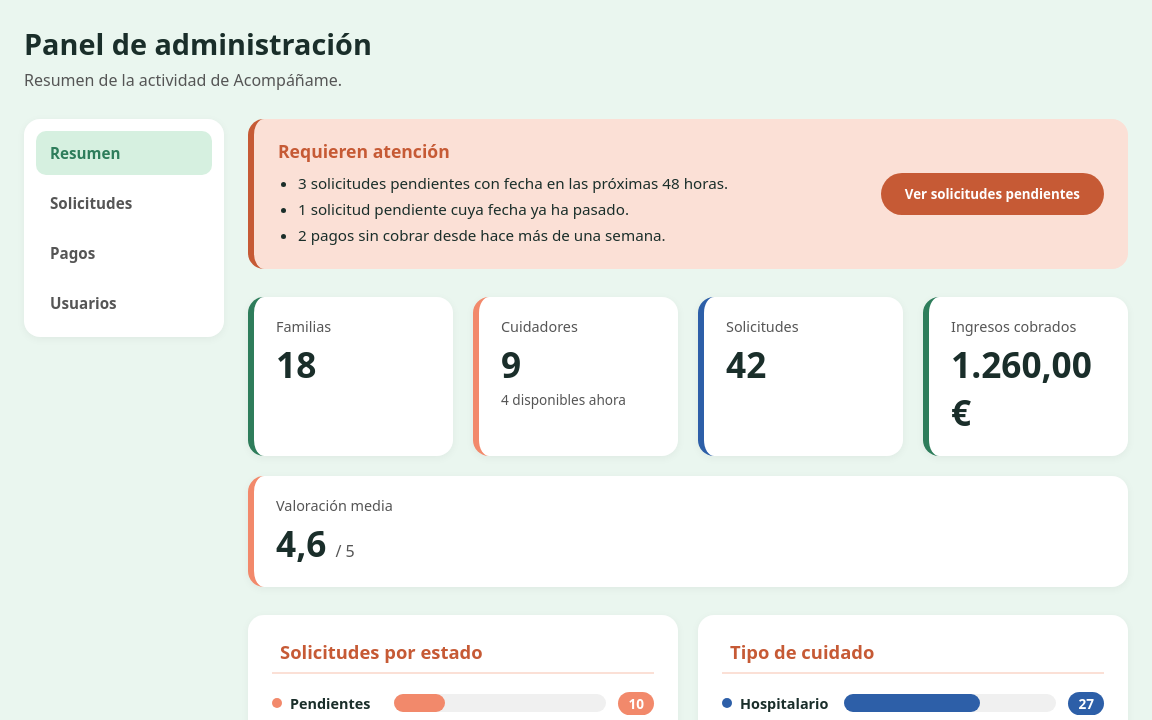
Test: AdminView › la sección Usuarios muestra la tabla de usuarios y oculta el resumen
Click the button with class "admin-menu__boton" showing "Usuarios": (124, 303) top-left (36, 281), bottom-right (212, 325)
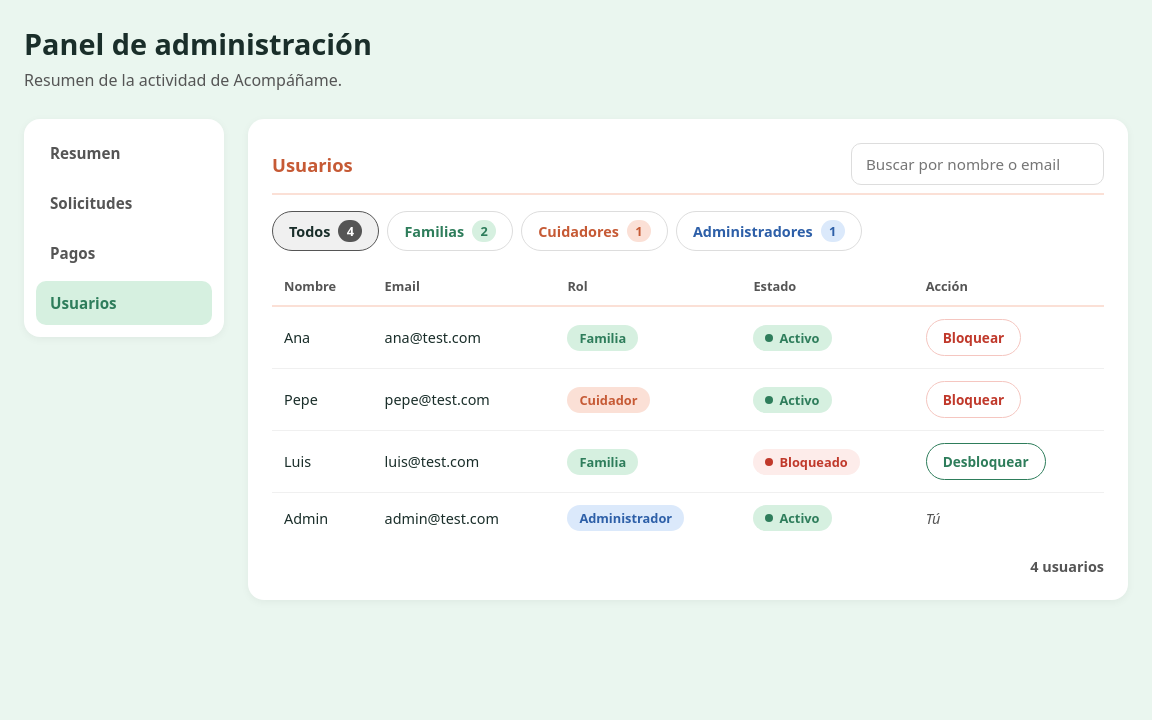
Result: the element with class "admin-usuarios" is shown at top-left (248, 119), bottom-right (1128, 600)
Result: the text "pepe@test.com" is shown at top-left (373, 368), bottom-right (555, 430)
Result: the text "Requieren atención" is gone
